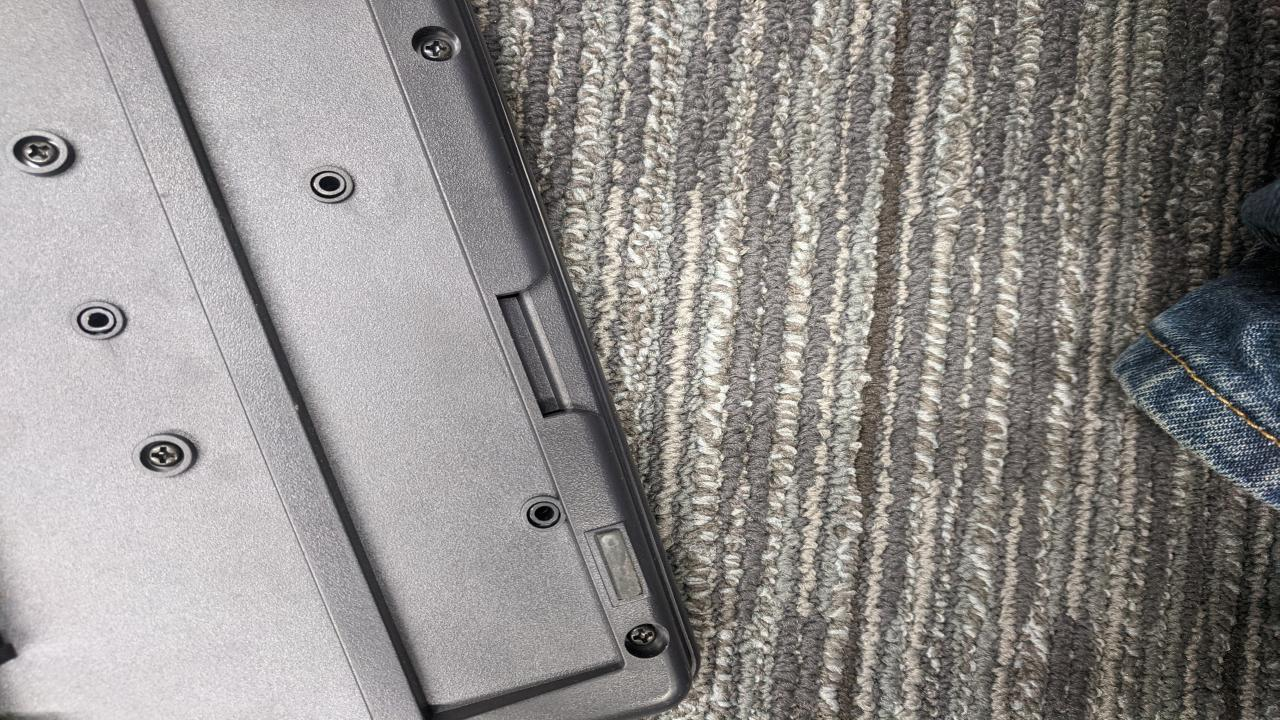CRS: (416, 36, 461, 66), (21, 136, 59, 168), (624, 619, 664, 647), (143, 440, 182, 467)
